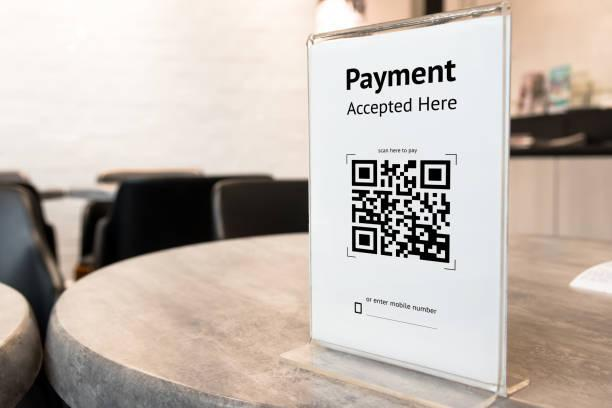Finder pattern: (416, 156, 454, 193), (347, 156, 382, 192), (348, 223, 382, 256)
